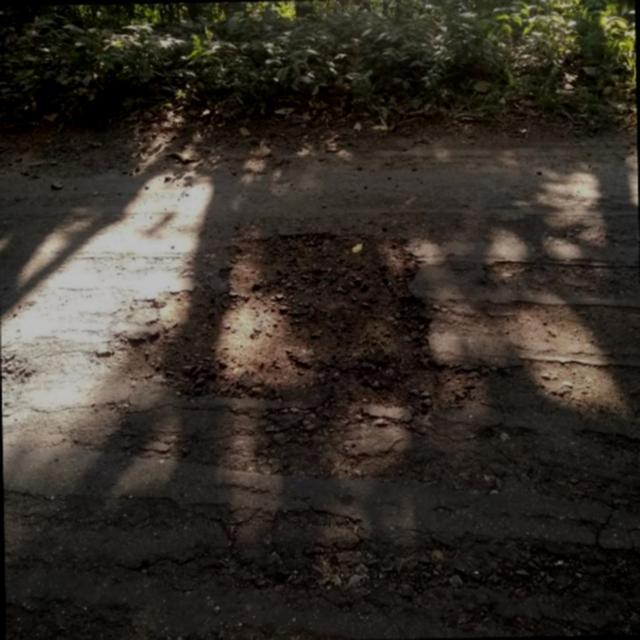Pothole: (126, 228, 490, 428)
